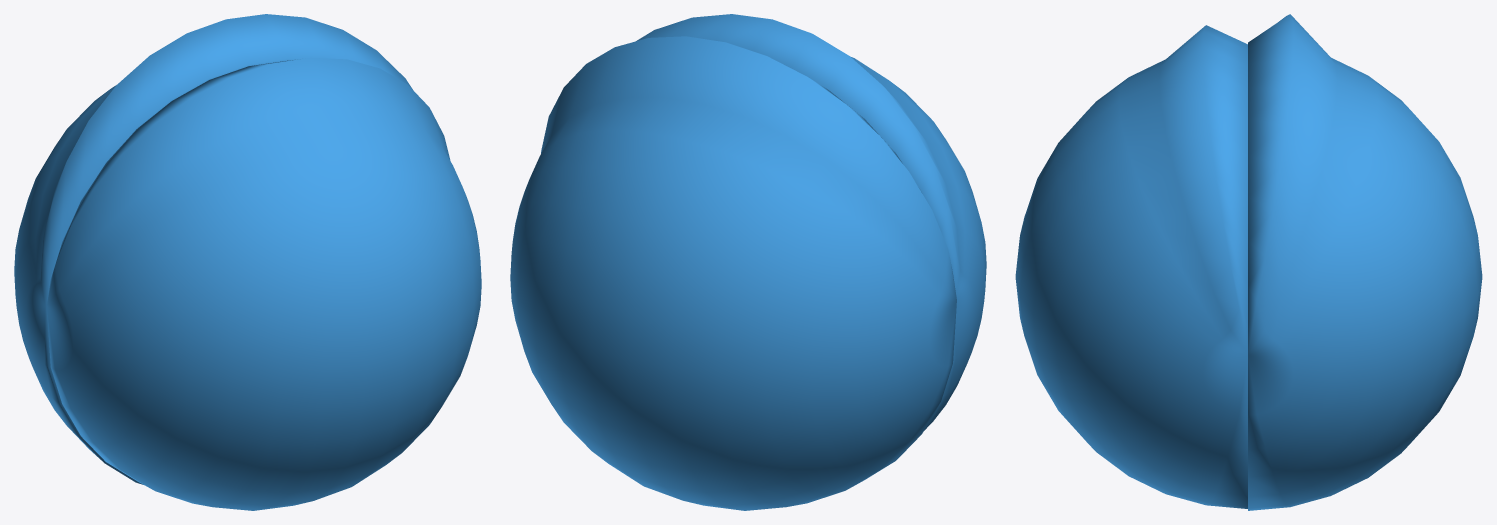
The model's file is eyeball.fbx.
The picture shows the model from 3 angles, left to right: view 1: azimuth 30°, elevation 25°; view 2: azimuth 150°, elevation 25°; view 3: azimuth 270°, elevation 25°; orthographic projection. The views are drawn at different scales.
Parts seen in each view (by area): view 1: Sphere; view 2: Sphere; view 3: Sphere.
Boxes of the visible parts, x1,y1,x2,y2 form: Sphere: (14, 14, 481, 510); Sphere: (510, 14, 986, 510); Sphere: (1015, 14, 1482, 510).
Bounding box in the file's own units: 2263 × 2414 × 2254.
